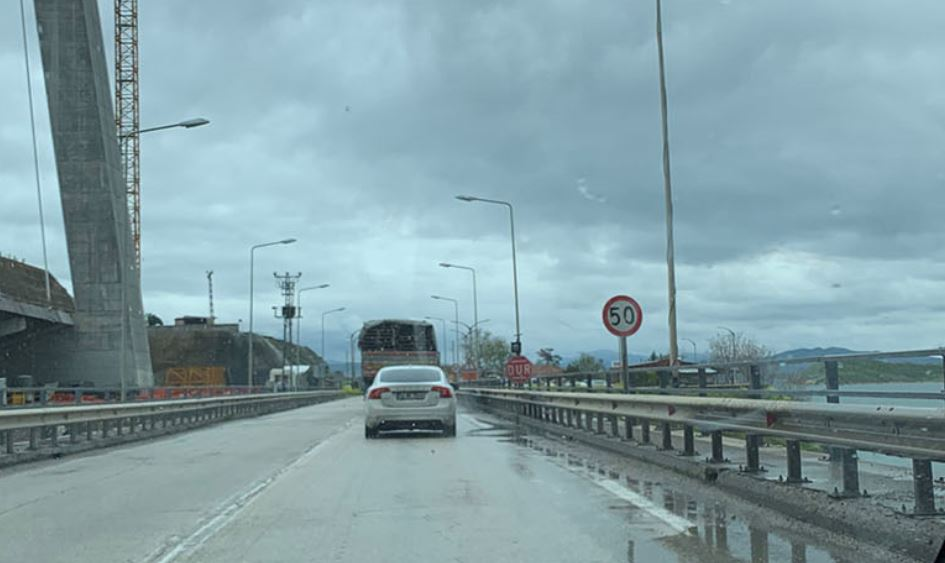50 Km Hiz Siniri: (600, 294, 646, 338)
